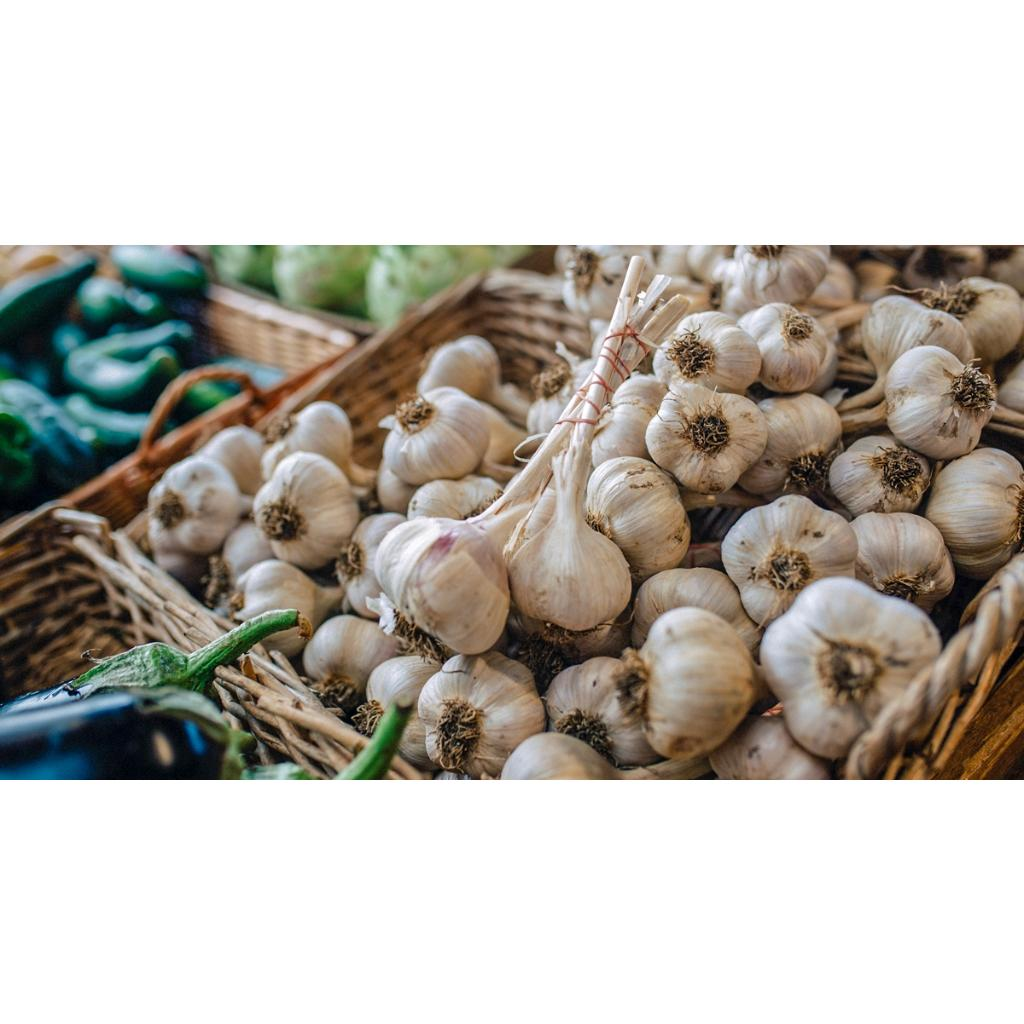garlic: (376, 386, 587, 653), (760, 576, 942, 759), (508, 424, 632, 630), (616, 606, 764, 760), (722, 494, 858, 626), (836, 294, 974, 412), (418, 652, 544, 778), (336, 512, 470, 617), (646, 382, 768, 494), (586, 456, 690, 584), (148, 454, 242, 590), (884, 344, 994, 458), (546, 656, 660, 766), (254, 450, 360, 568), (632, 568, 762, 657), (380, 386, 490, 484), (738, 392, 842, 495), (850, 512, 954, 612), (922, 276, 1024, 366), (654, 310, 762, 393), (712, 244, 830, 316), (830, 436, 930, 516), (738, 302, 826, 392), (236, 558, 344, 628), (408, 474, 502, 520), (264, 630, 306, 656)
